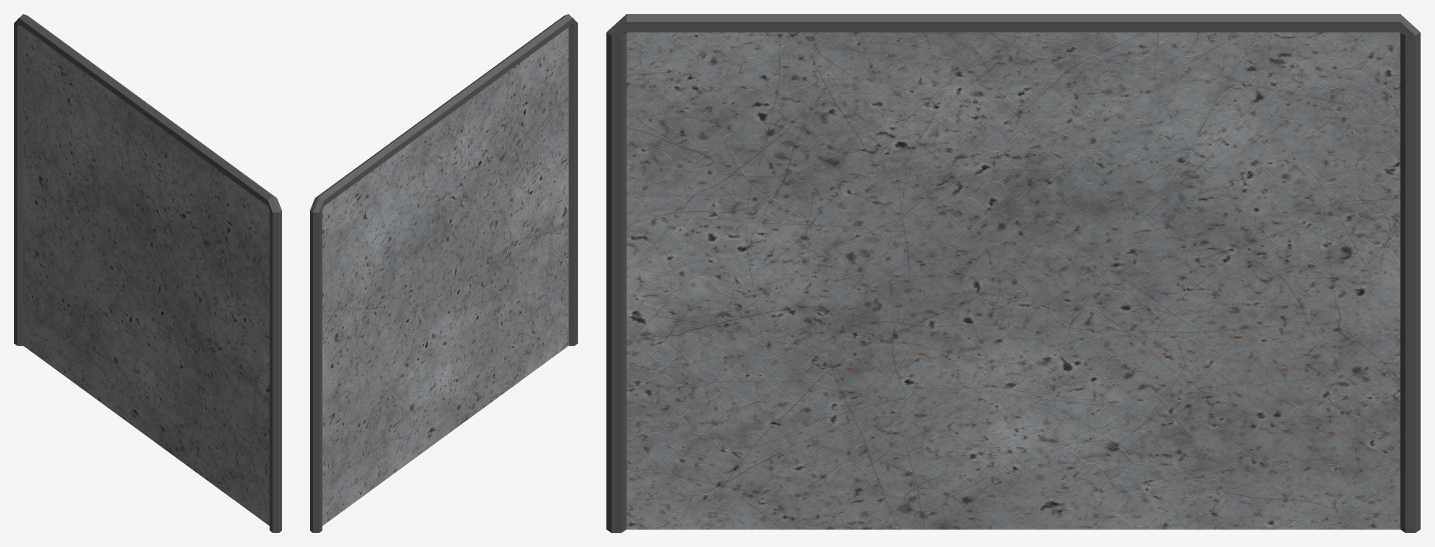
File: DiamondFence.fbx
3 views of the same model, side by side, from view 1: azimuth 30°, elevation 25°; view 2: azimuth 150°, elevation 25°; view 3: azimuth 270°, elevation 25° (orthographic). The views are drawn at different scales.
Visible parts, largest first — view 1: Plane; view 2: Plane; view 3: Plane.
Boxes of the visible parts, x1=… form: Plane: x1=14, y1=14, x2=281, y2=532; Plane: x1=310, y1=14, x2=577, y2=532; Plane: x1=606, y1=14, x2=1420, y2=532.
Size of the model in its own units: 5.96 by 206 by 295.
